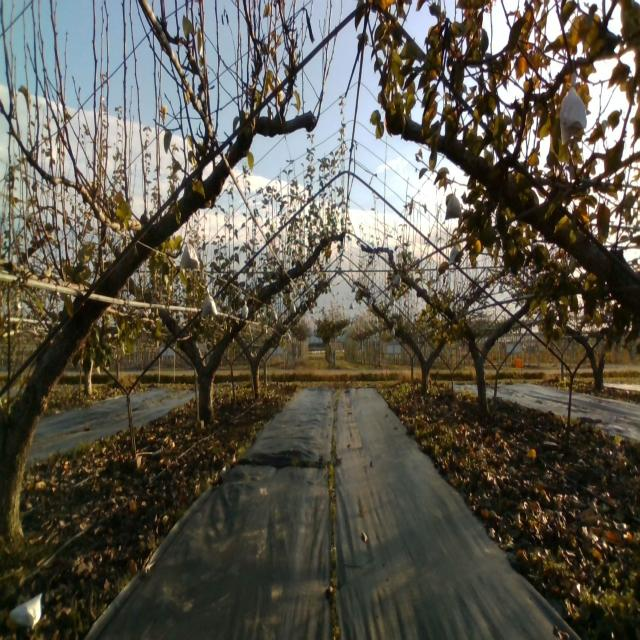pearbags: (559, 72, 587, 146), (180, 241, 200, 270), (445, 187, 462, 221), (202, 286, 218, 317), (448, 244, 460, 265)
